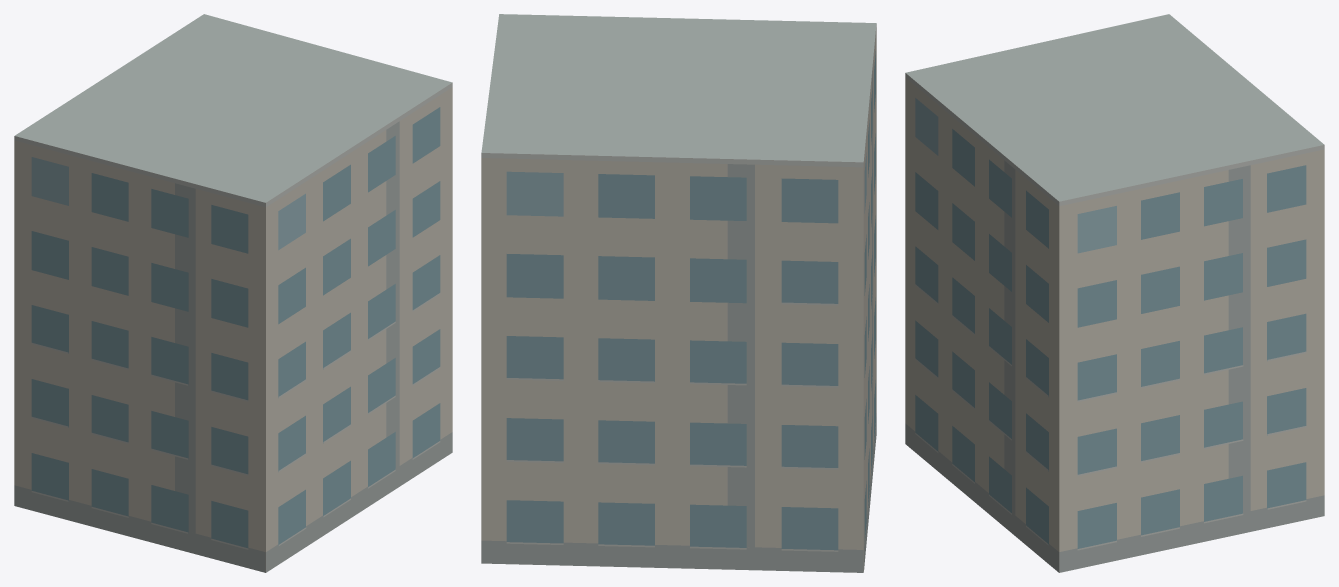
File: survey-upis-32996789.glb
3 views of the same model, side by side, from view 1: azimuth 30°, elevation 25°; view 2: azimuth 150°, elevation 25°; view 3: azimuth 270°, elevation 25° (orthographic). The views are drawn at different scales.
Parts seen in each view (by area): view 1: survey-upis-32996789.tmp; view 2: survey-upis-32996789.tmp; view 3: survey-upis-32996789.tmp.
Part boxes in pixels (x1,y1,x2,y2): survey-upis-32996789.tmp: (14, 14, 452, 572); survey-upis-32996789.tmp: (481, 14, 876, 572); survey-upis-32996789.tmp: (905, 14, 1324, 572).
Bounding box in the file's own units: 21.62 × 19.93 × 20.41.
